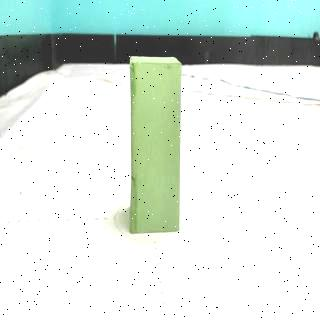greenbox: (128, 54, 184, 235)
